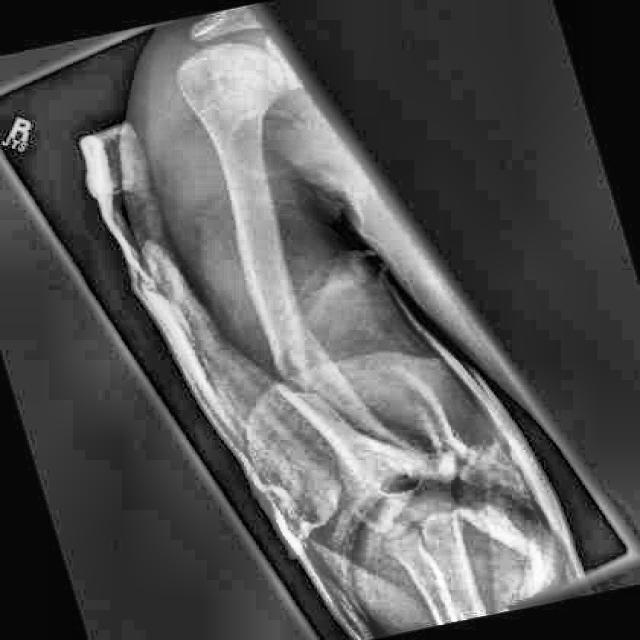humerus: (226, 308, 405, 464)
